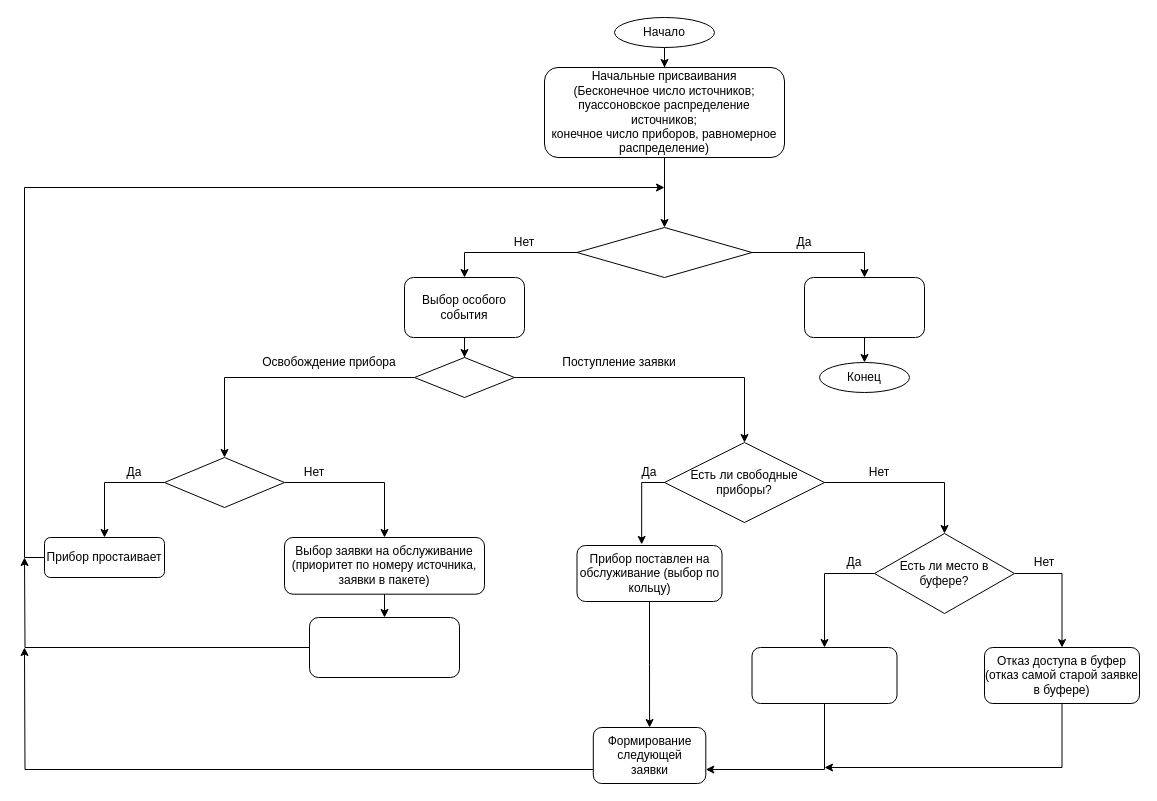
Image size: 1157x801. Some labels were removed from this diagram. Each missing label, with the box of its shape:
Анализ ОС: (414, 356, 514, 398)
Буфер пустой?: (164, 456, 284, 508)
Конец моделирования?: (576, 226, 752, 278)
Обработка результатов (сводная таблица результатов): (804, 276, 924, 338)
Обслуживание заявки: (308, 616, 460, 678)
Поместить заявку в буфер (на свободное место): (751, 646, 897, 704)
